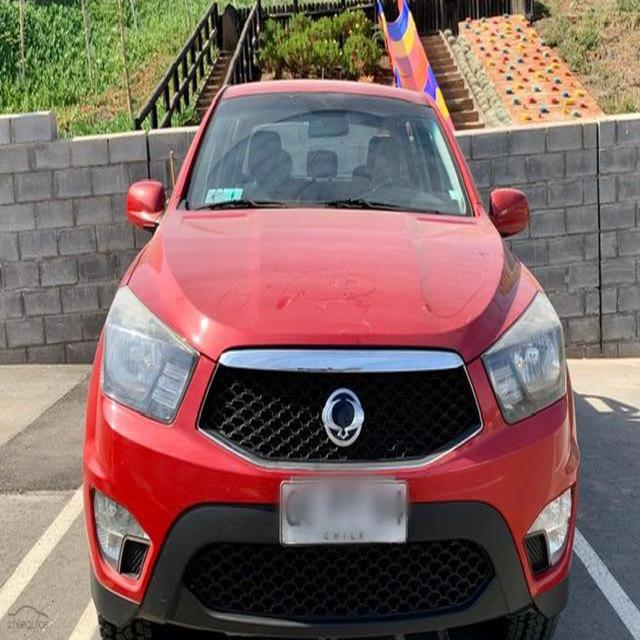patente: (278, 476, 409, 546)
